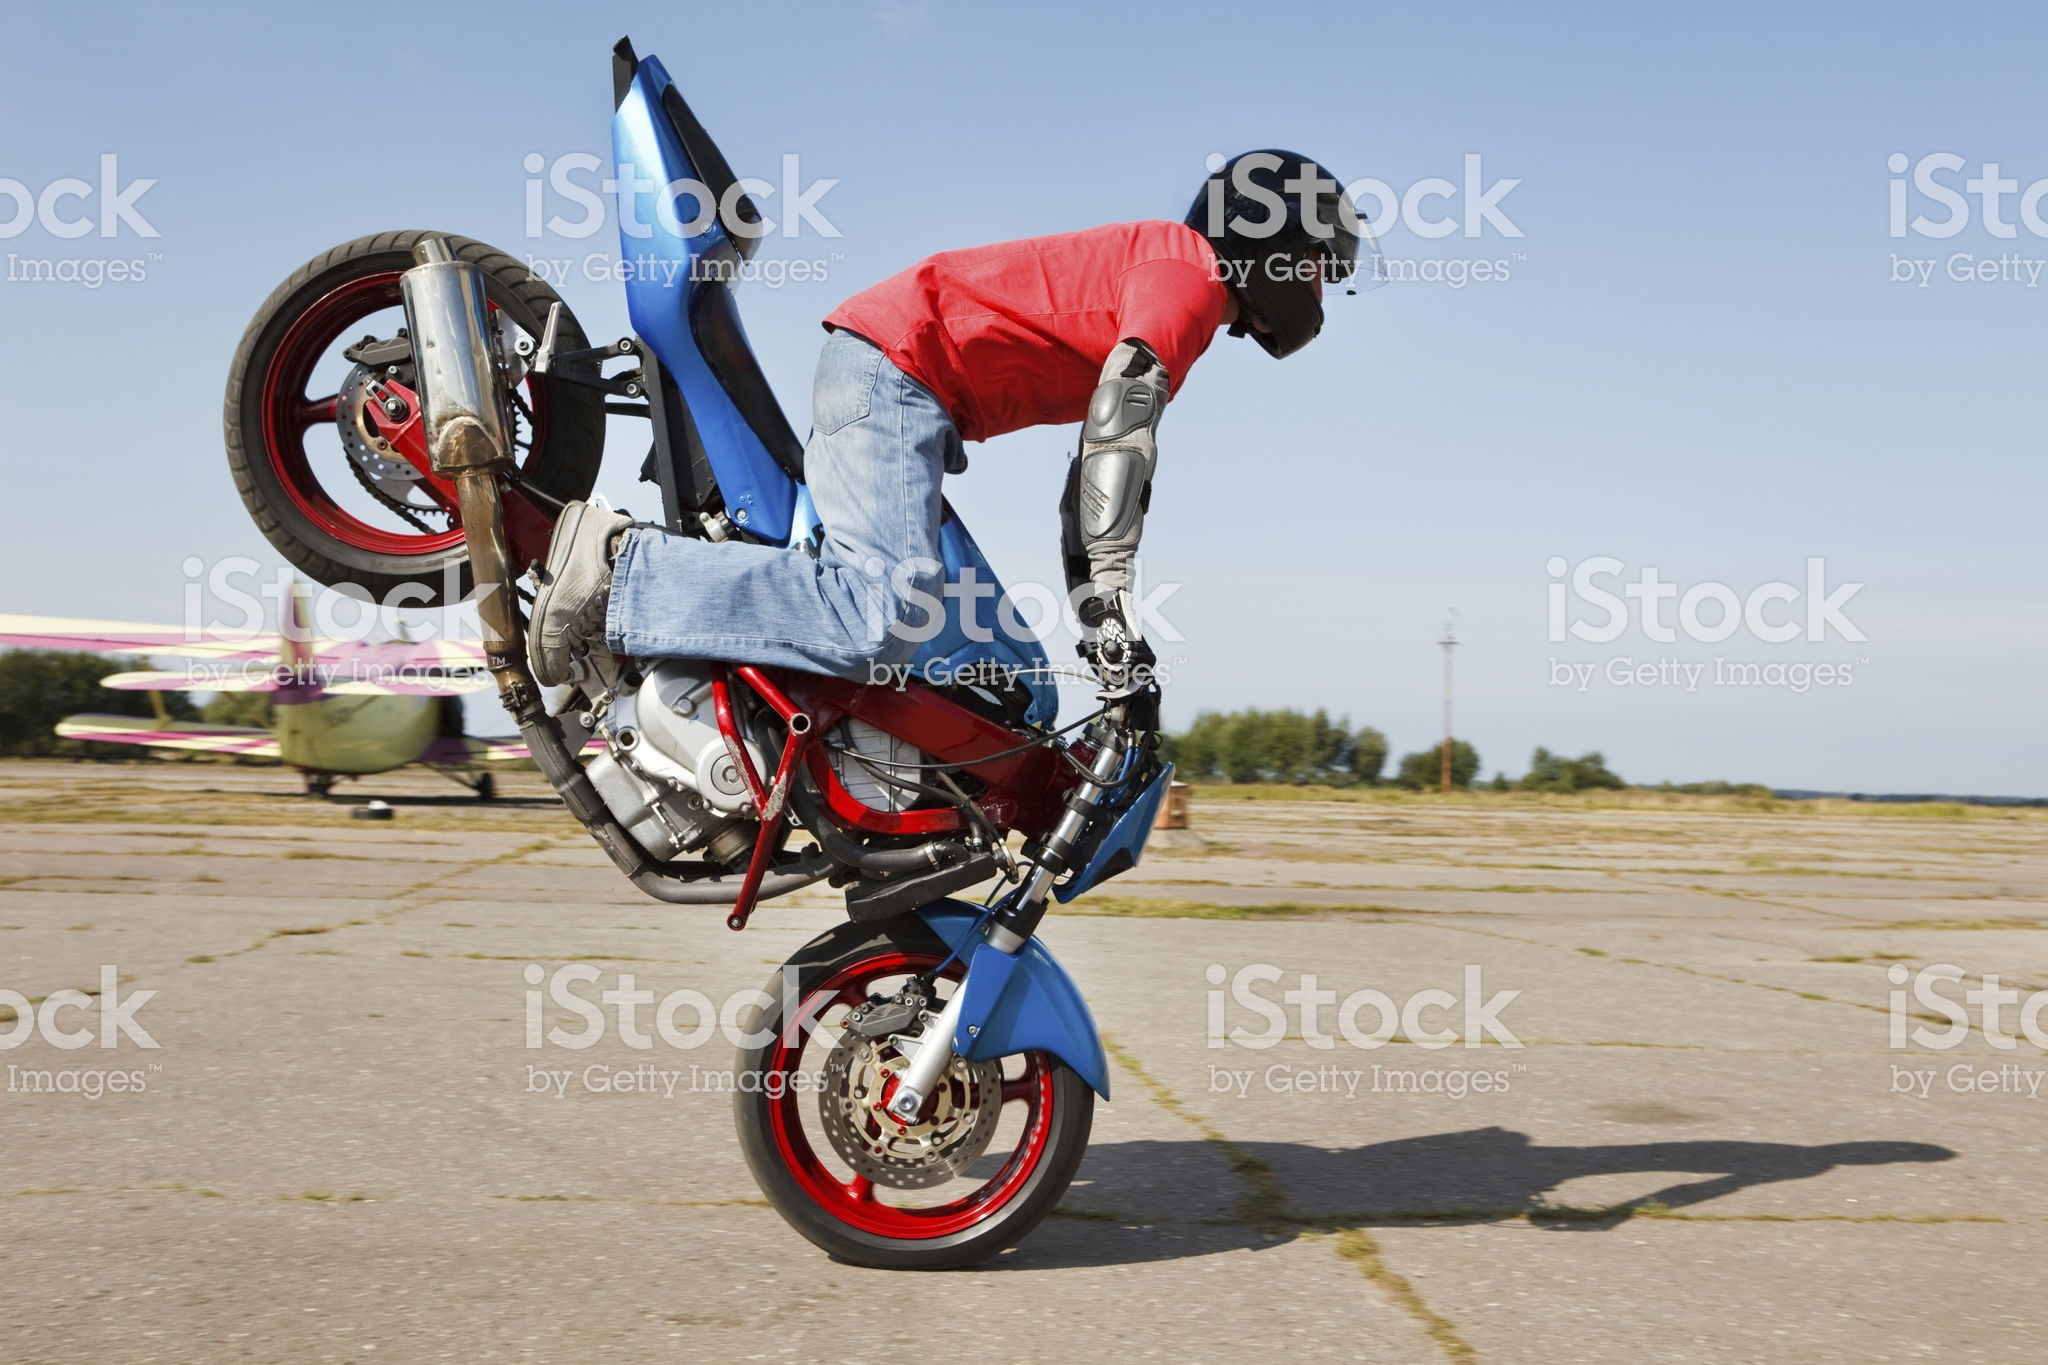helmet: (1192, 119, 1380, 376)
